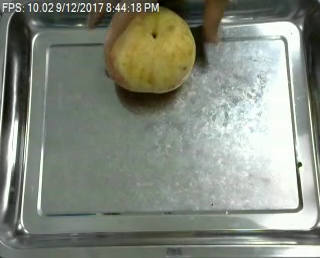Peach: (105, 6, 197, 94)
